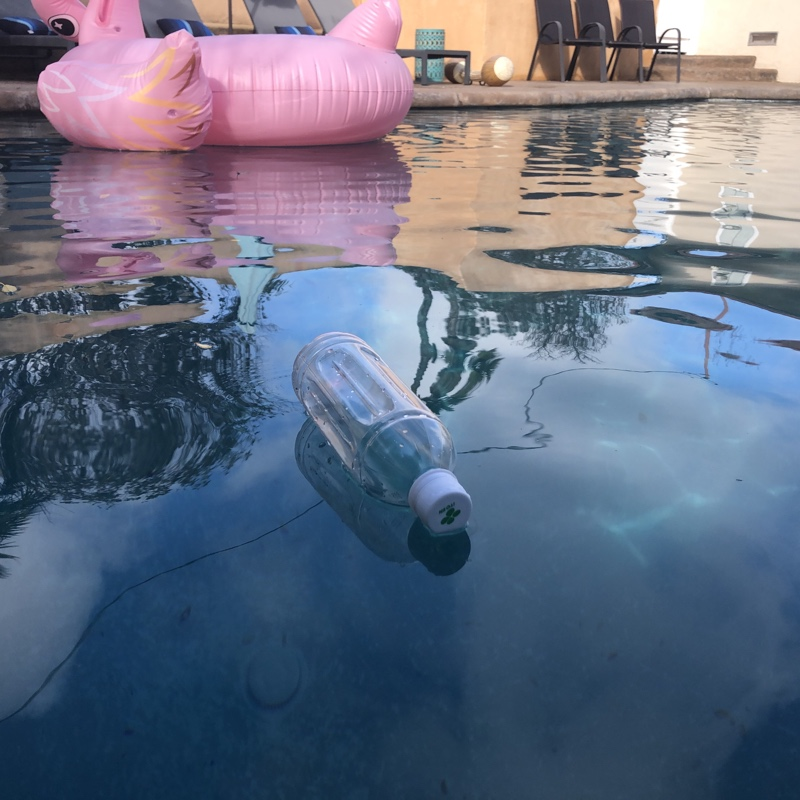Plastic Bottle: (288, 329, 475, 544)
